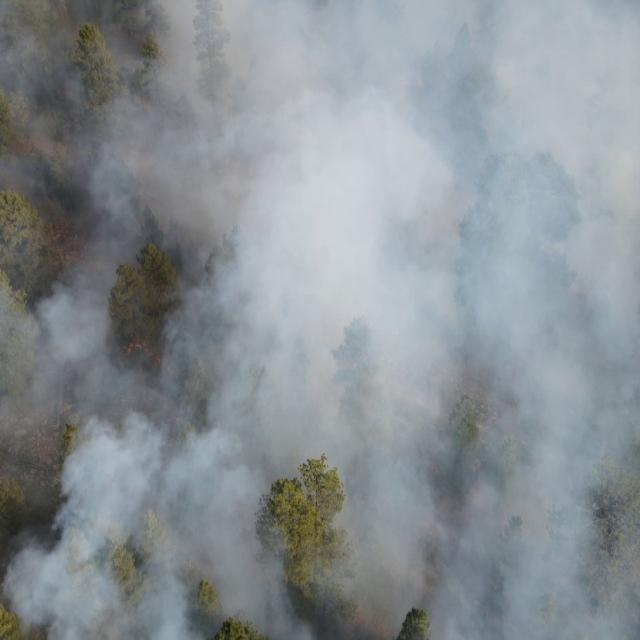fire: (120, 344, 180, 380)
smoke: (0, 0, 640, 640)
